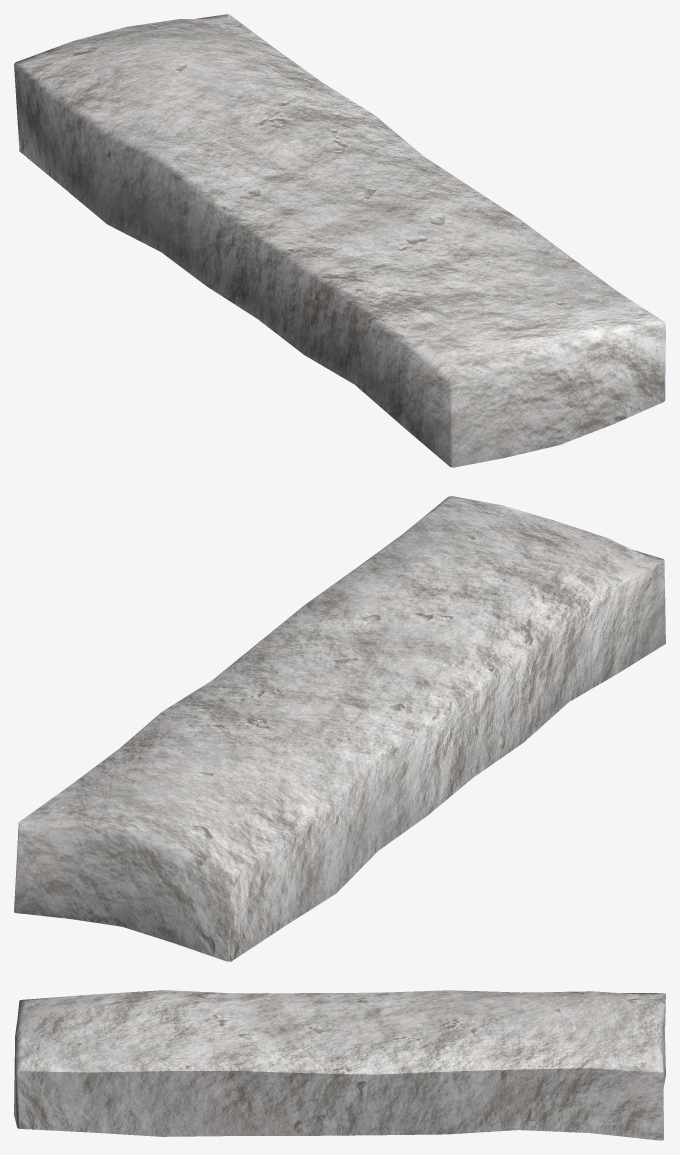
File: step2_LOD0.FBX
The picture shows the model from 3 angles, top to bottom: view 1: azimuth 30°, elevation 25°; view 2: azimuth 150°, elevation 25°; view 3: azimuth 270°, elevation 25°; orthographic projection. The views are drawn at different scales.
Parts seen in each view (by area): view 1: step2_LOD0; view 2: step2_LOD0; view 3: step2_LOD0.
Boxes of the visible parts, bbox=[...] form: step2_LOD0: bbox=[14, 14, 665, 467]; step2_LOD0: bbox=[14, 496, 665, 961]; step2_LOD0: bbox=[14, 990, 665, 1140].
Size of the model in its own units: 52.03 by 26.07 by 173.
